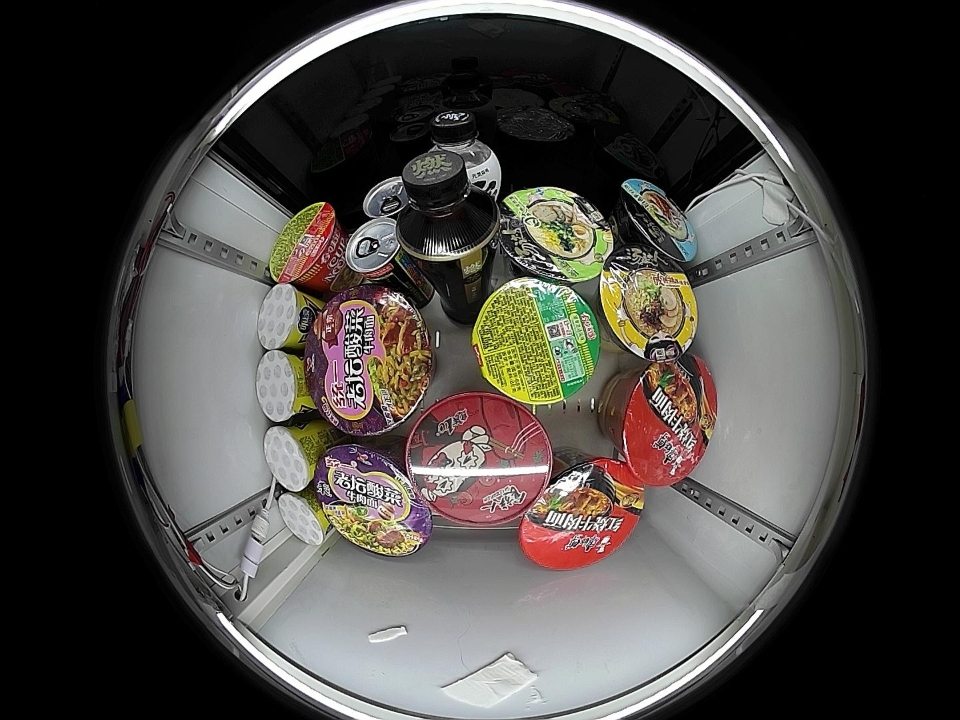heweidao2: (472, 278, 602, 408)
heweidao3: (268, 201, 343, 288)
hongshaoniurou: (611, 355, 717, 486), (519, 458, 644, 569)
kebike: (255, 350, 311, 423), (263, 422, 321, 491), (256, 284, 313, 351), (276, 488, 332, 547)
laotansuancai: (308, 285, 434, 437), (317, 443, 433, 558)
rancha-1: (401, 150, 498, 262)
suanlafen: (406, 392, 552, 527)
tangdaren: (497, 184, 614, 282)
tangdaren2: (599, 247, 698, 361)
tangdaren3: (616, 178, 697, 266)
yezhi: (342, 217, 412, 284), (363, 176, 412, 224)
yuanqishui: (427, 109, 500, 186)
